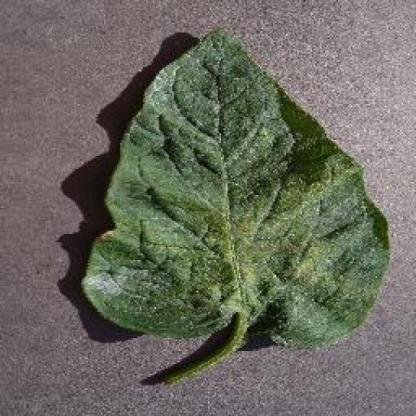Tomato_Spider_Mites: (80, 29, 390, 346)
